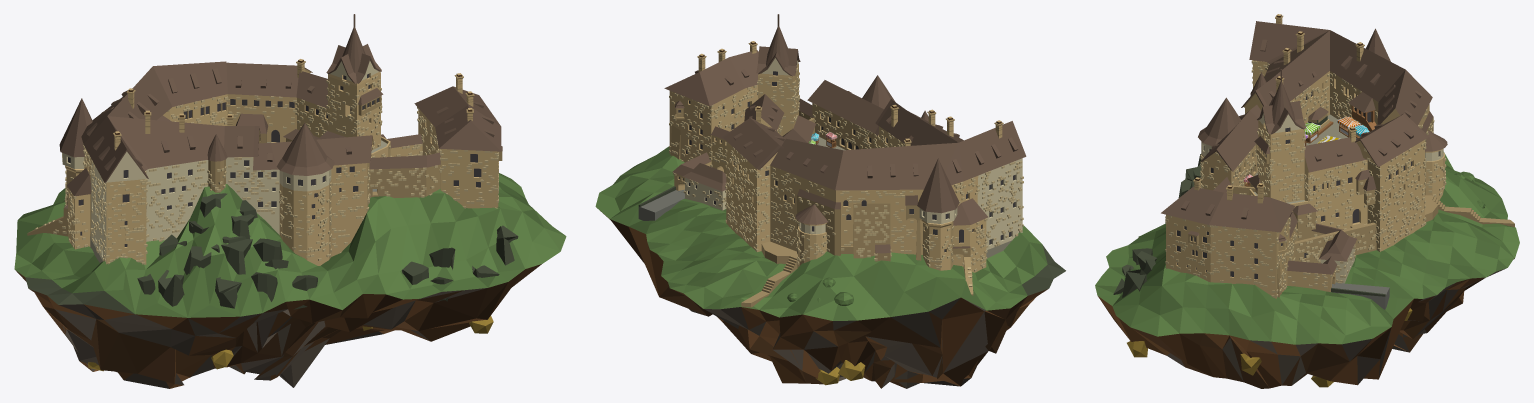
File: loket.glb
3 views of the same model, side by side, from view 1: azimuth 30°, elevation 25°; view 2: azimuth 150°, elevation 25°; view 3: azimuth 270°, elevation 25° (orthographic). The views are drawn at different scales.
Visible parts, largest first — view 1: Plane.9342; view 2: Plane.9342; view 3: Plane.9342.
Part boxes in pixels (x1,y1,x2,y2): Plane.9342: [14, 14, 566, 388]; Plane.9342: [595, 14, 1065, 388]; Plane.9342: [1095, 14, 1519, 388].
Size of the model in its own units: 18.62 by 13.37 by 15.22.
